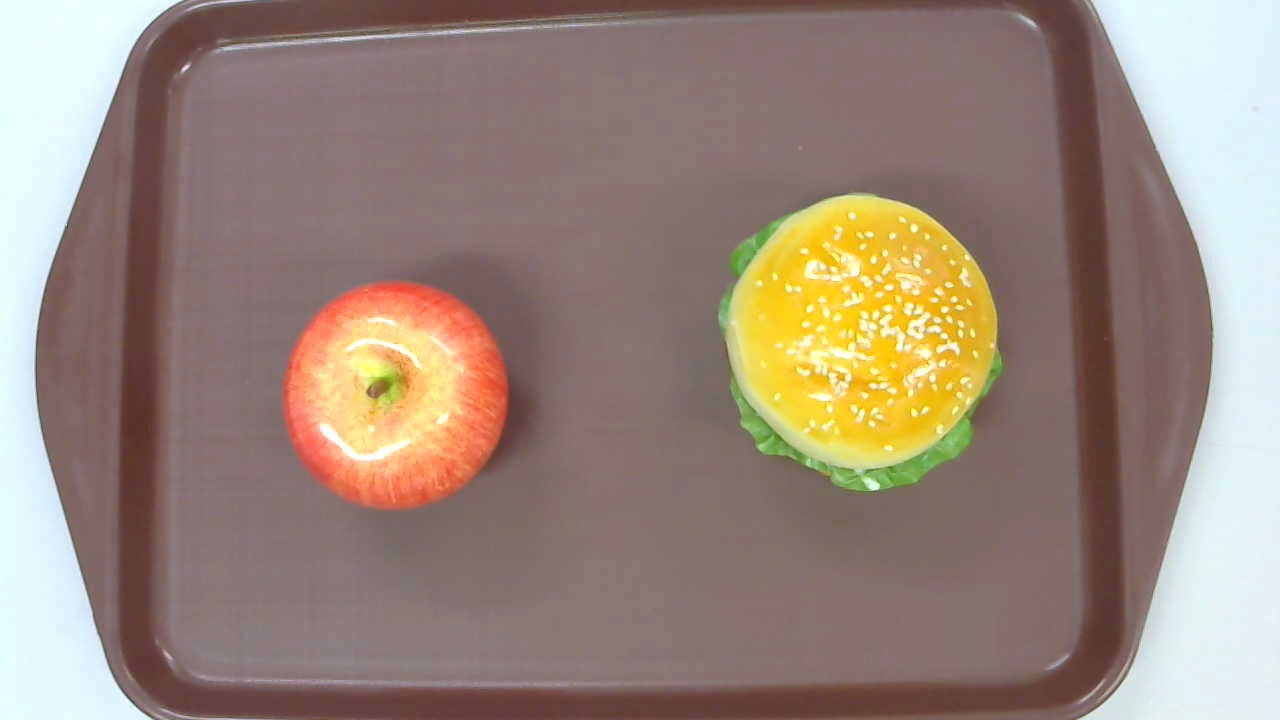hamburger: (715, 193, 1001, 493)
red apple: (282, 280, 507, 508)
